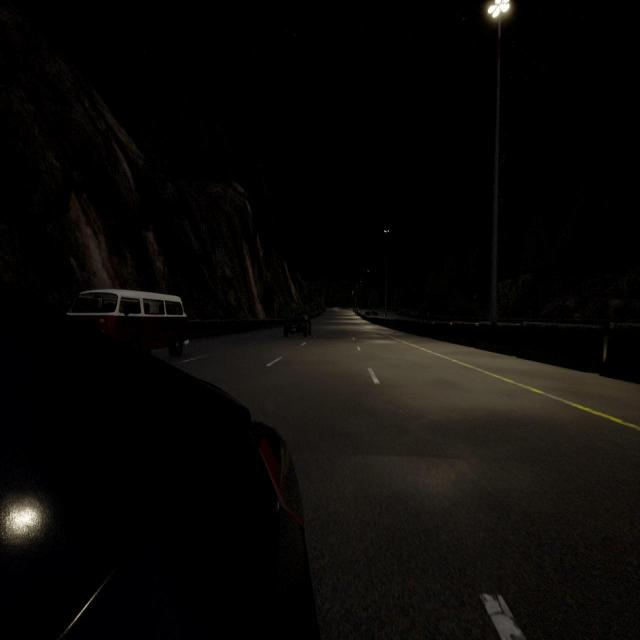Vehicle: (0, 322, 318, 640), (68, 288, 192, 355), (283, 310, 311, 338)
